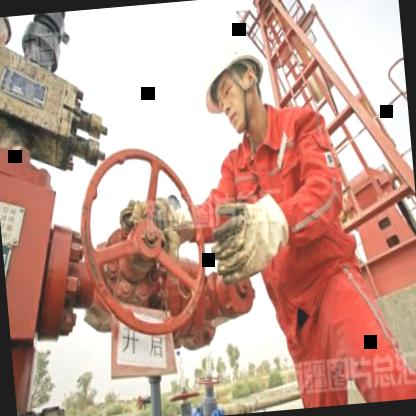helmet: (190, 16, 278, 146)
